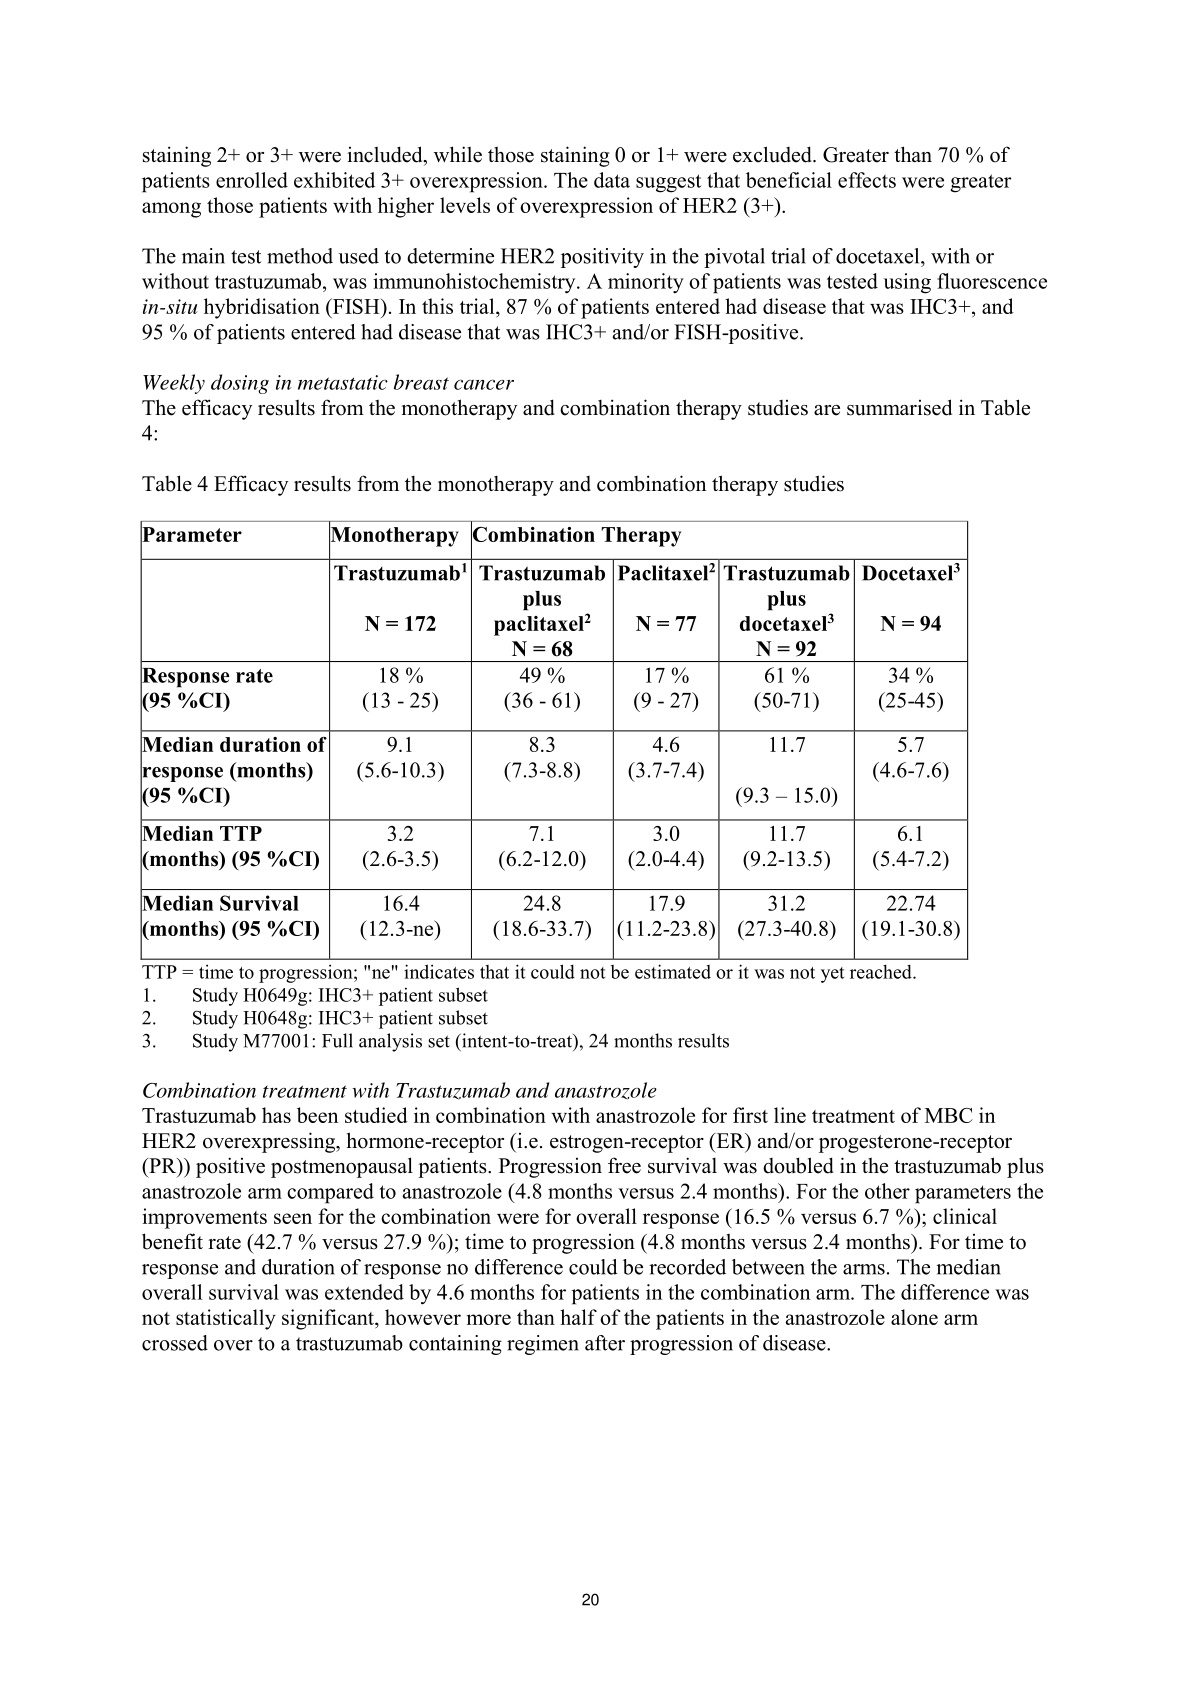merged_cells: (140, 520, 969, 962)
